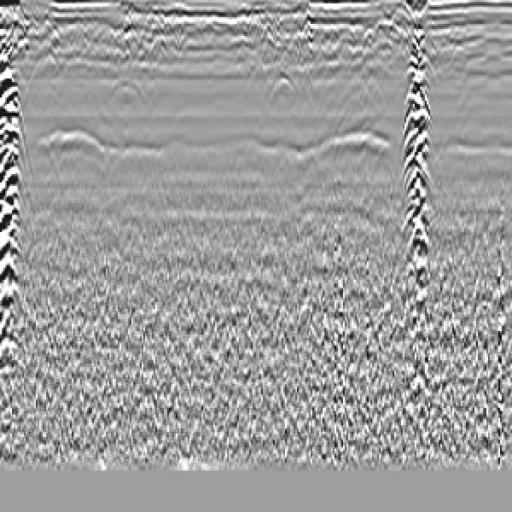metalic: (381, 12, 456, 353), (1, 46, 37, 373)
